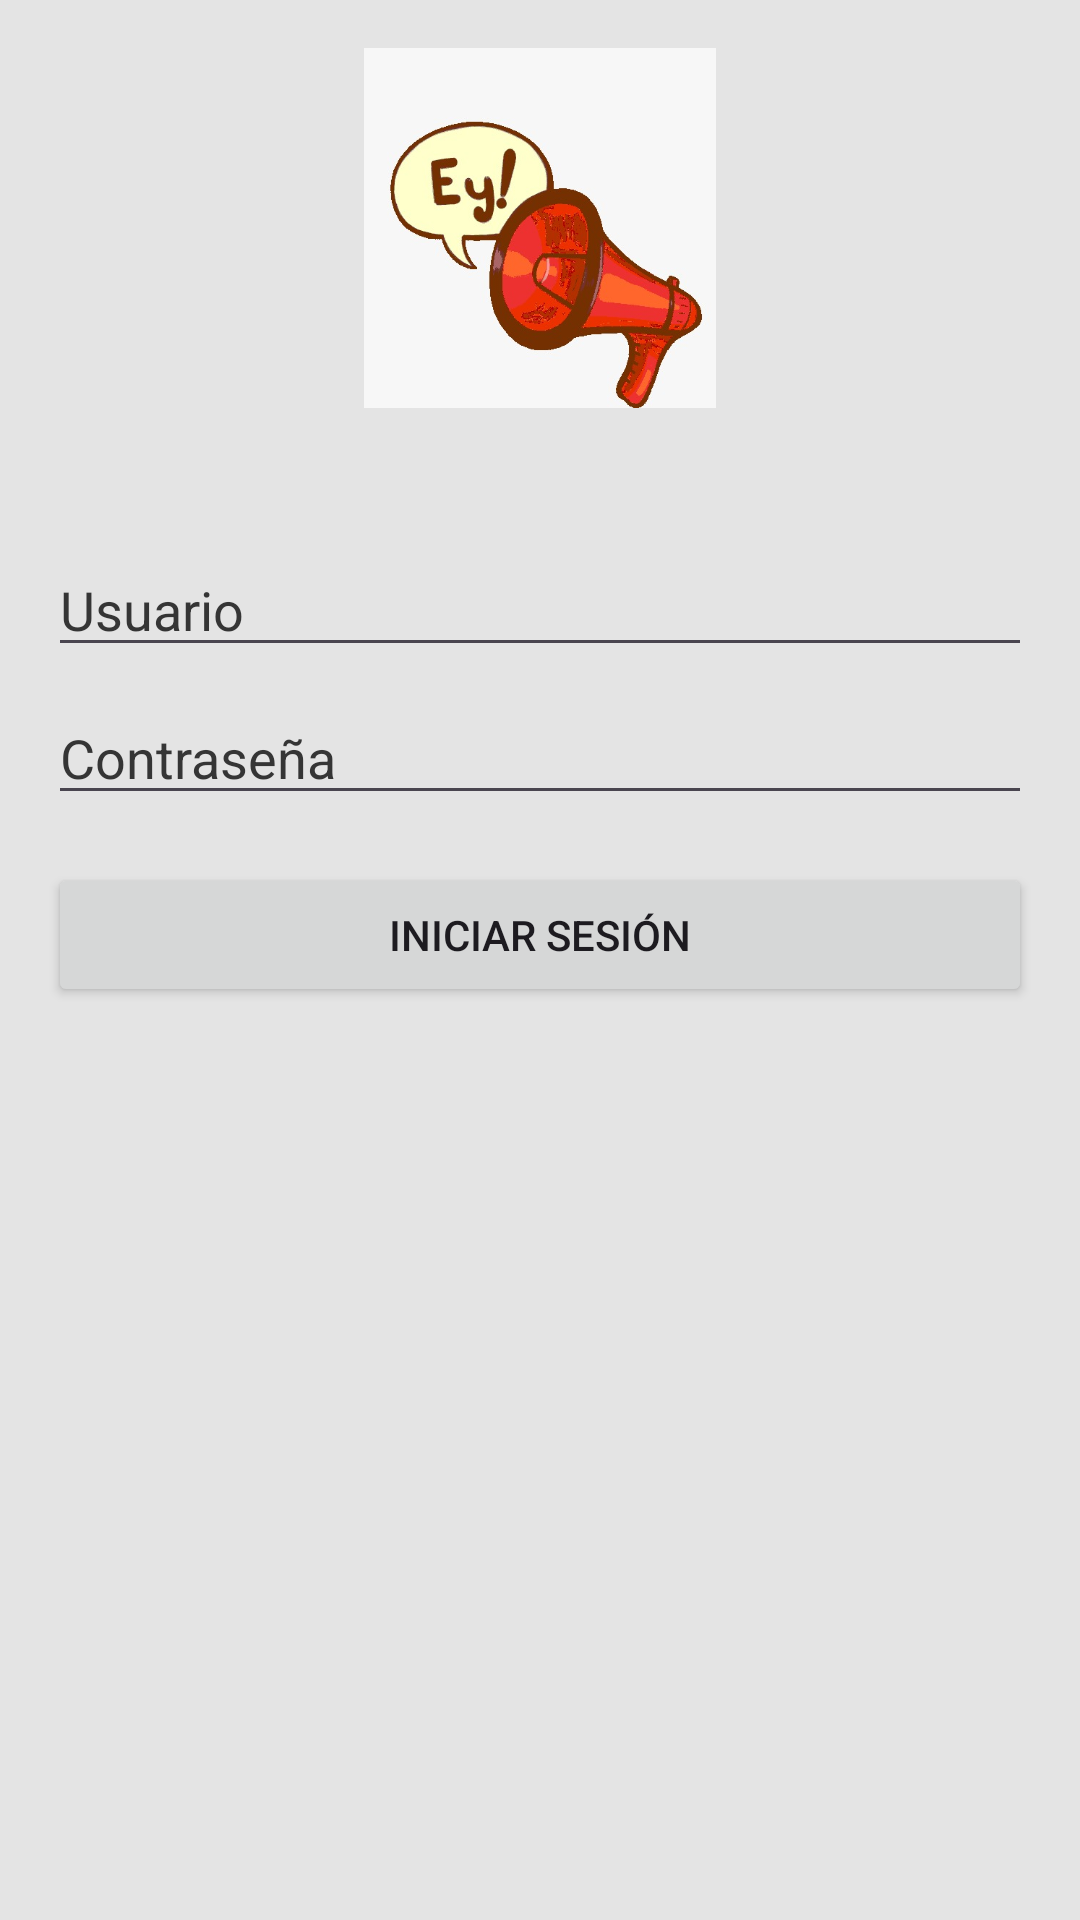

Icon bounding boxes for this 1080×1920 phone screenshot, format (x1, y1, x2, y2):
megafono: (364, 48, 716, 408)
